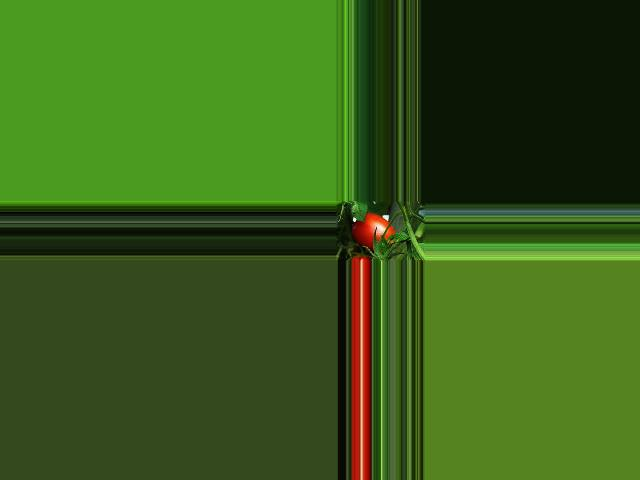tomato: (351, 213, 394, 250)
